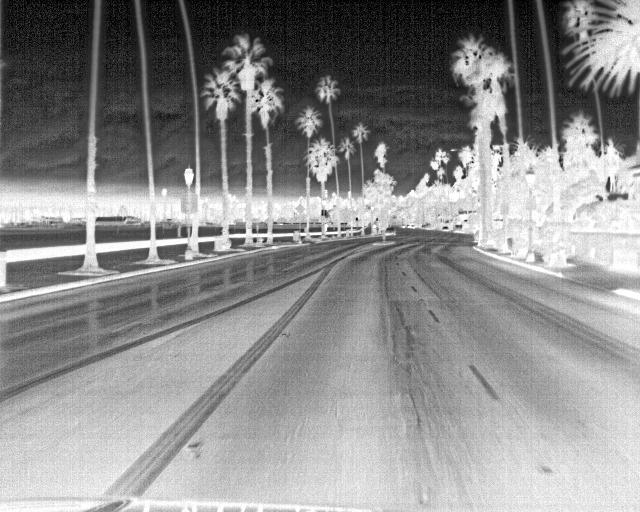car: (383, 225, 397, 237), (451, 223, 463, 233), (440, 224, 450, 233)
